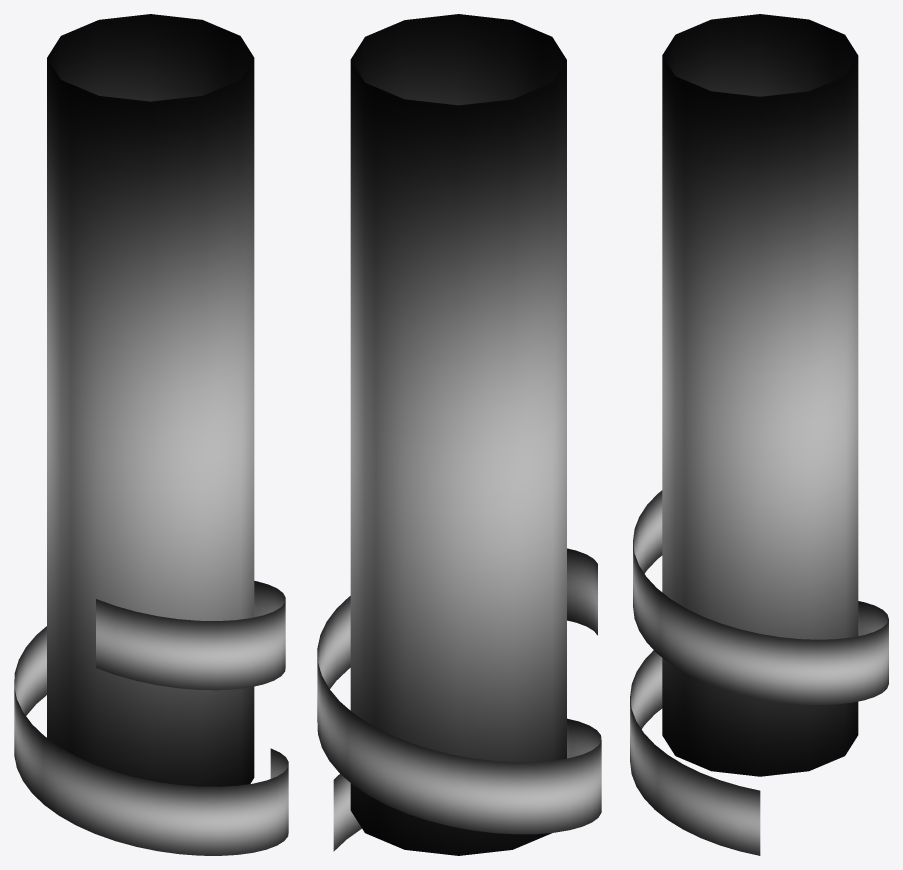
The model's file is bumb_shape_1.FBX.
The picture shows the model from 3 angles, left to right: view 1: azimuth 30°, elevation 25°; view 2: azimuth 150°, elevation 25°; view 3: azimuth 270°, elevation 25°; orthographic projection. The views are drawn at different scales.
Visible parts, largest first — view 1: Cylinder, rotateShape; view 2: Cylinder, rotateShape; view 3: Cylinder, rotateShape.
Boxes of the visible parts, box(x1,y1,x2,y2) form: Cylinder: box(47, 14, 254, 786); rotateShape: box(14, 581, 288, 855); Cylinder: box(350, 14, 566, 855); rotateShape: box(317, 548, 601, 851); Cylinder: box(662, 14, 858, 776); rotateShape: box(630, 490, 888, 855).
Size of the model in its own units: 132 by 419 by 132.
